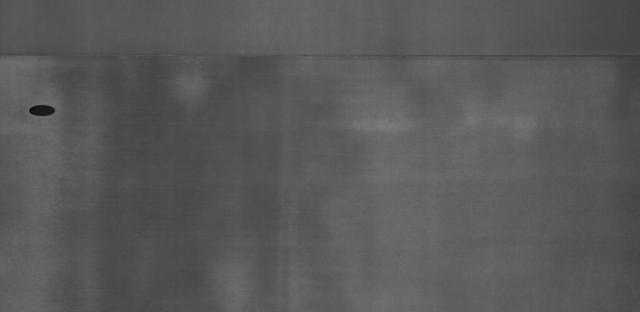punching_hole: (25, 102, 61, 122)
welding_line: (3, 45, 638, 66)
